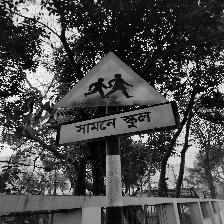School-in-front: (50, 51, 178, 147)
